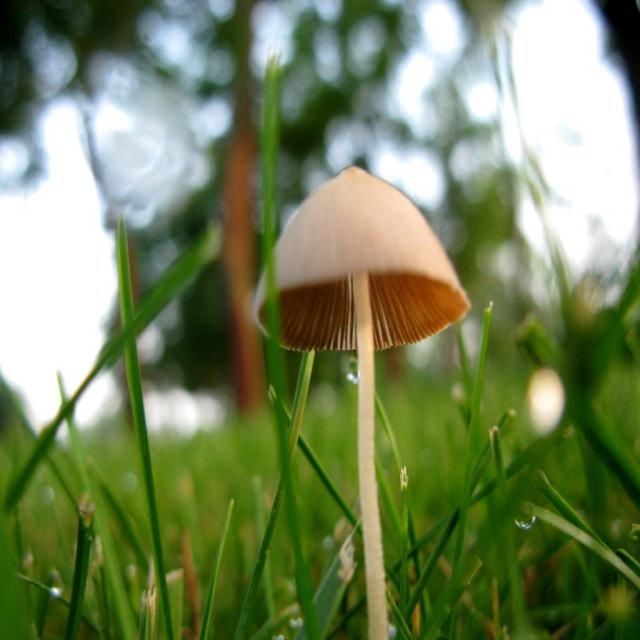Mushroom: (268, 148, 464, 574)
